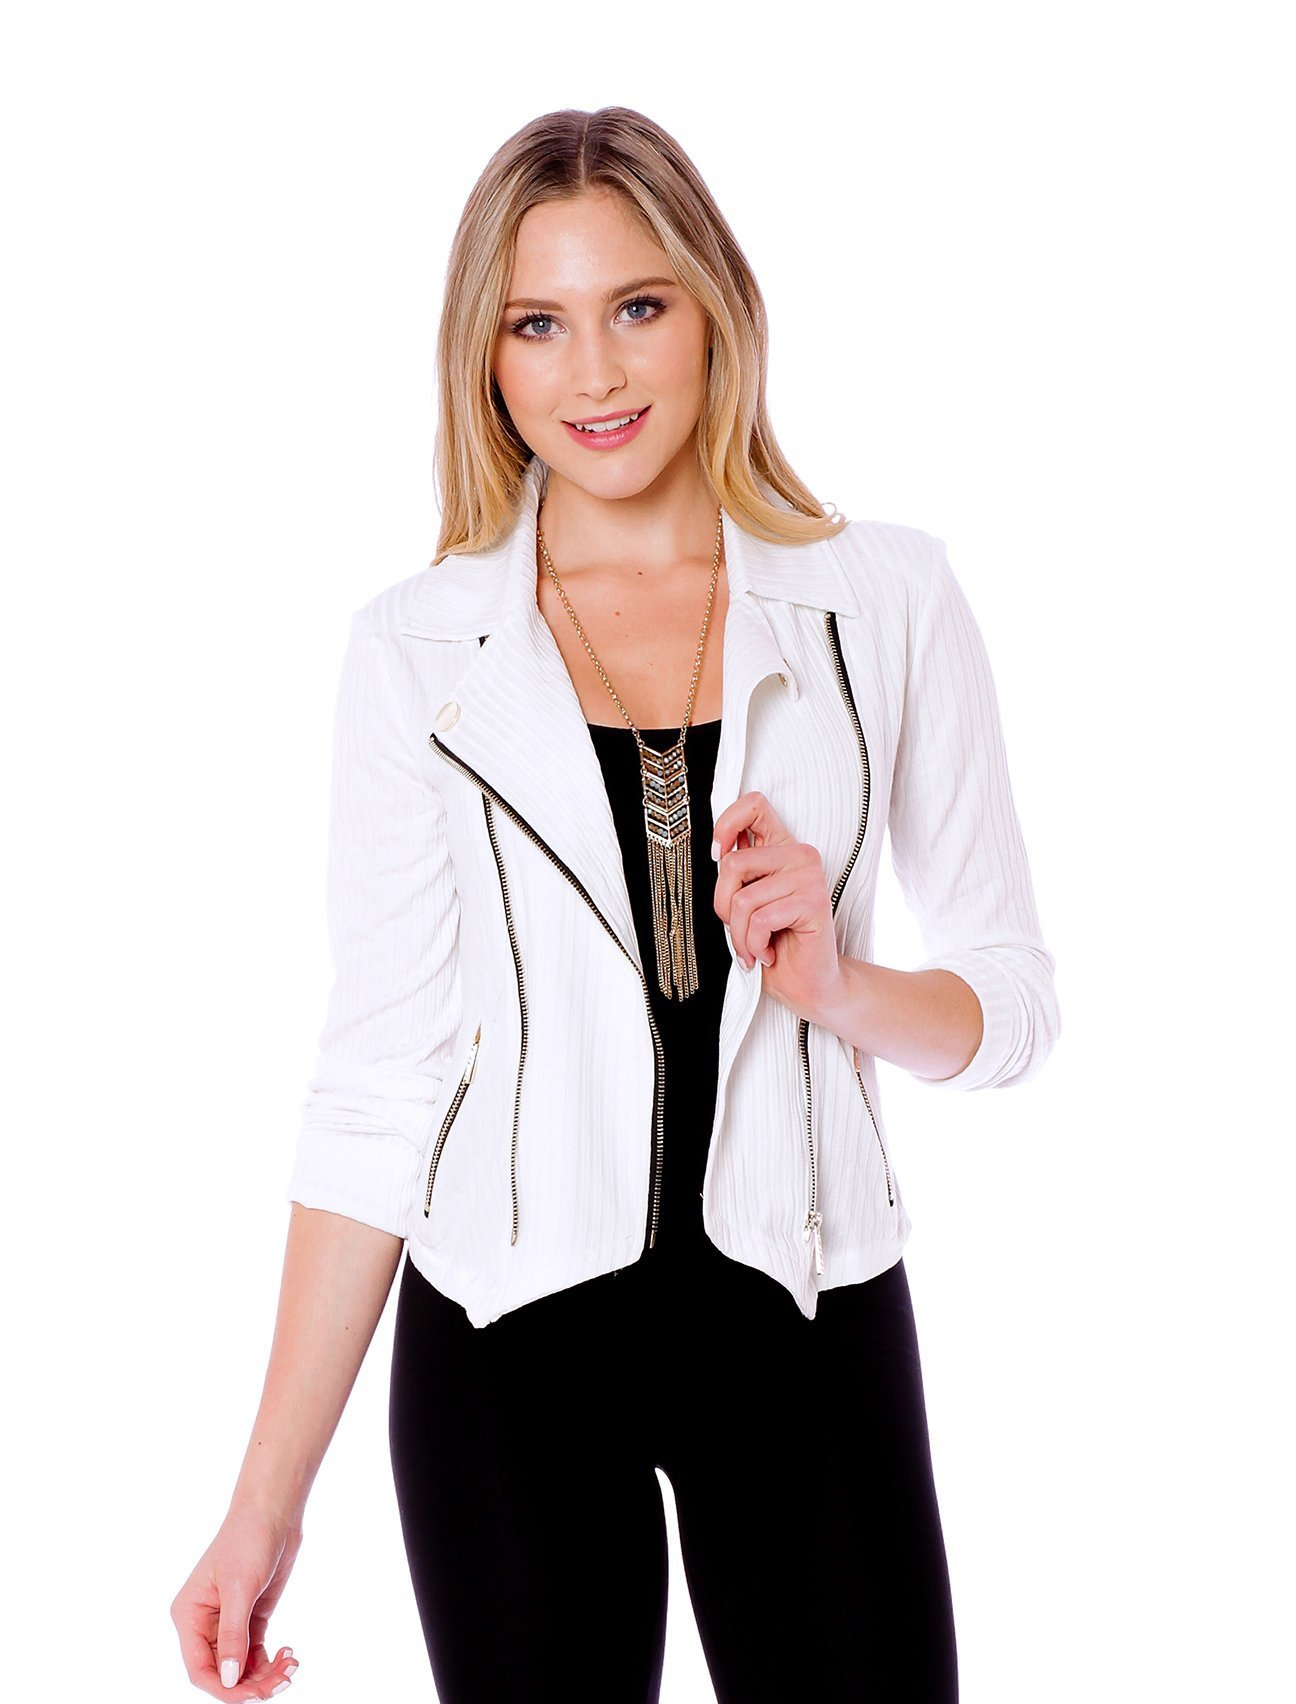F_W_suit jacket: (255, 509, 1058, 1346)
